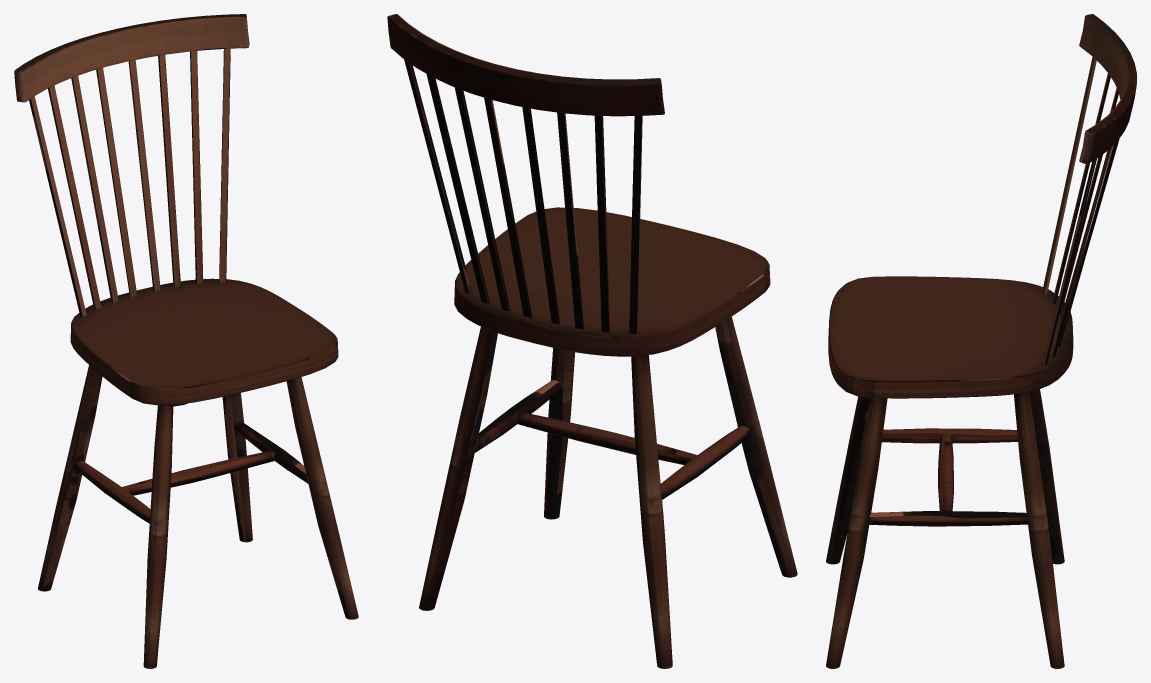
The model's file is edited_mesh.glb.
3 views of the same model, side by side, from view 1: azimuth 30°, elevation 25°; view 2: azimuth 150°, elevation 25°; view 3: azimuth 270°, elevation 25° (orthographic). The views are drawn at different scales.
Parts seen in each view (by area): view 1: normalized_model.obj; view 2: normalized_model.obj; view 3: normalized_model.obj.
Part boxes in pixels (x1,y1,x2,y2): normalized_model.obj: (14, 14, 358, 668); normalized_model.obj: (387, 14, 797, 668); normalized_model.obj: (826, 14, 1136, 668).
Size of the model in its own units: 0.7566 by 1.59 by 0.8261.
Materials: 1 (1 with a texture image).
